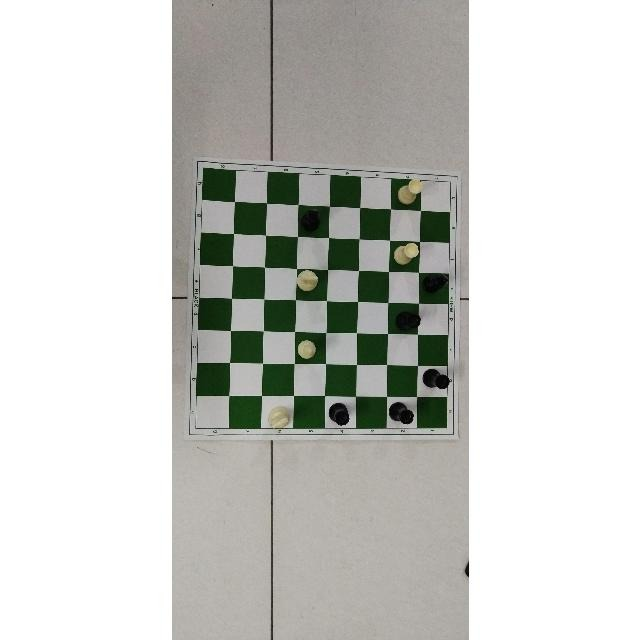black-bishop: (299, 208, 321, 231), (421, 274, 447, 292)
black-rook: (421, 368, 449, 390), (388, 401, 414, 424), (328, 402, 350, 426), (395, 311, 421, 331)
white-bishop: (295, 340, 316, 359)
white-knight: (264, 406, 289, 428), (296, 269, 318, 292)
white-rook: (396, 178, 422, 205), (392, 242, 418, 266)
